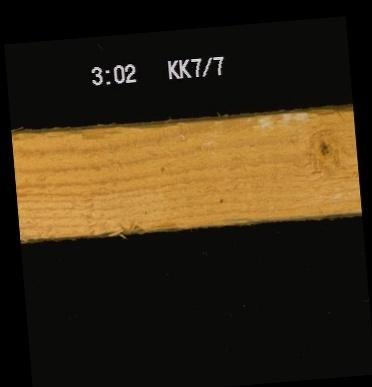sound_knot: (317, 139, 330, 156)
